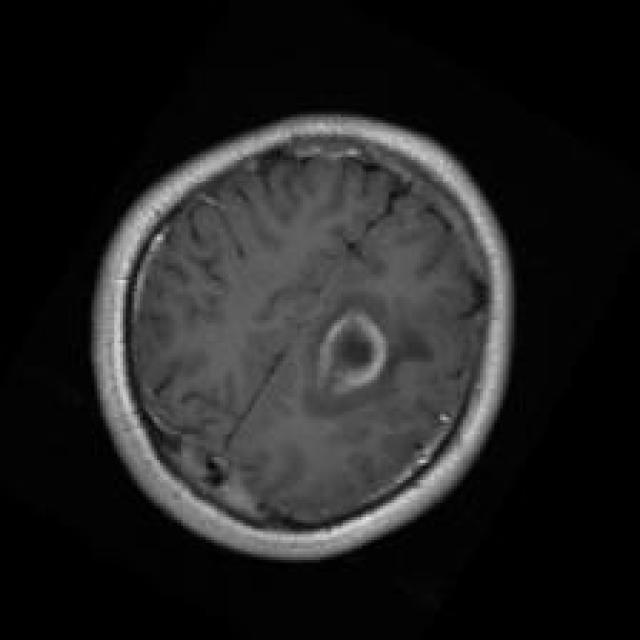glioma_tumor: (292, 292, 437, 416)
